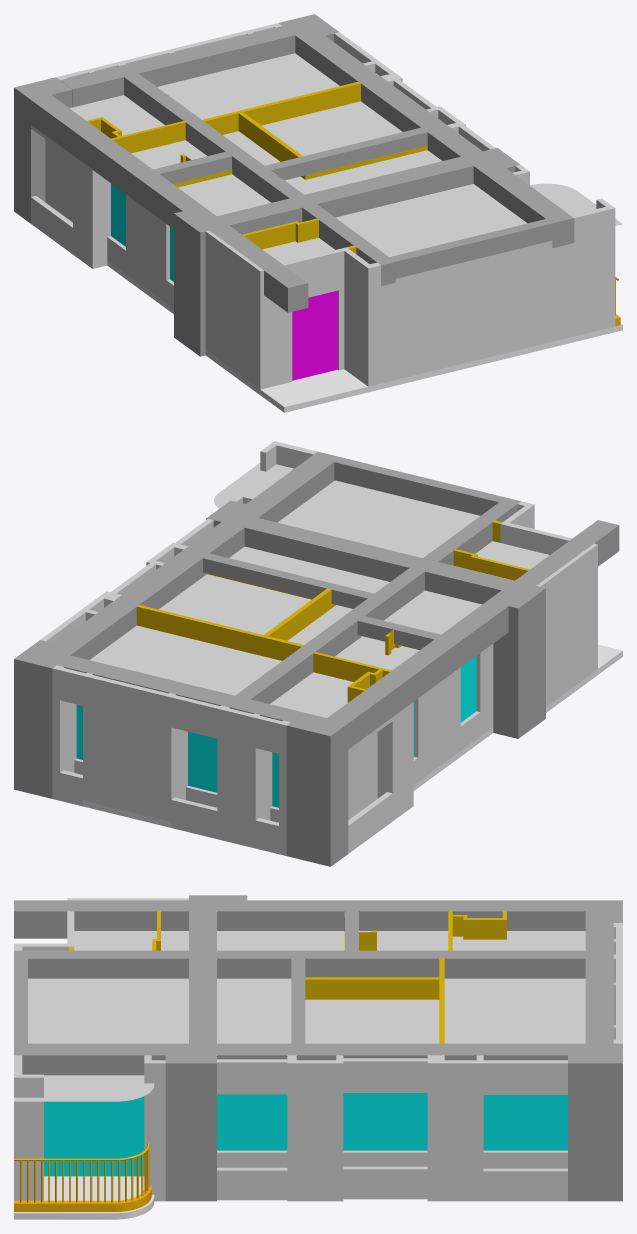
3 renders of one model, top to bottom at view 1: azimuth 30°, elevation 25°; view 2: azimuth 150°, elevation 25°; view 3: azimuth 270°, elevation 25°, orthographic. The views are drawn at different scales.
Size of the model in its own units: 9.44 by 3.25 by 13.02.
